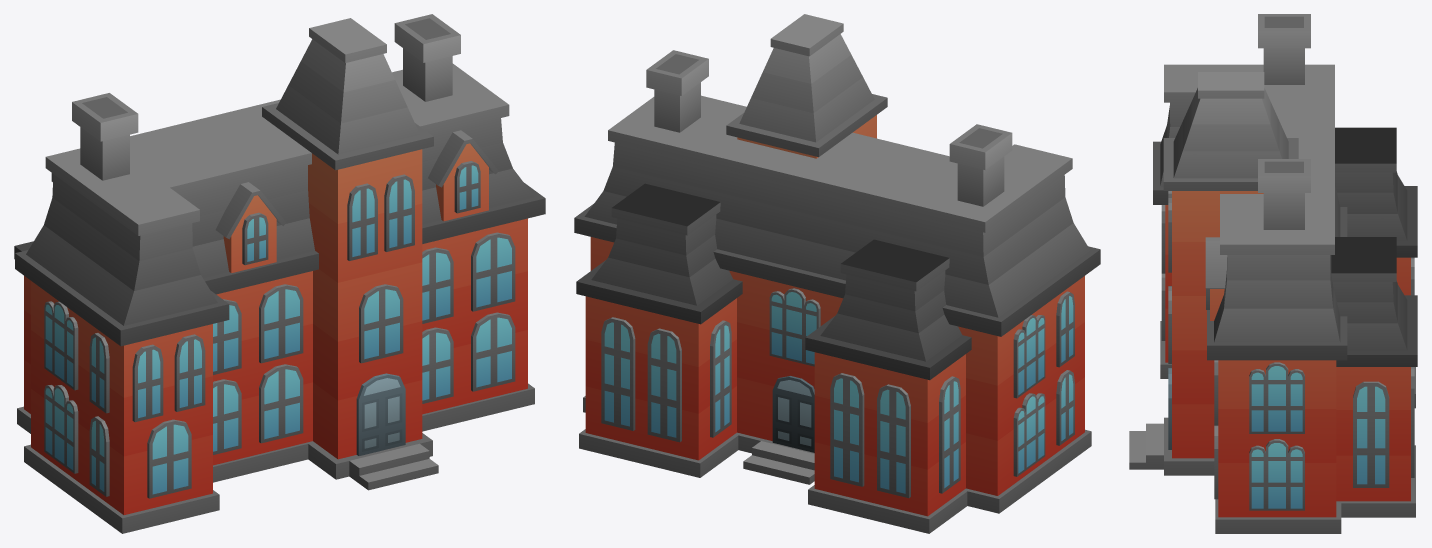
File: gothic house 2.fbx
The picture shows the model from 3 angles, left to right: view 1: azimuth 30°, elevation 25°; view 2: azimuth 150°, elevation 25°; view 3: azimuth 270°, elevation 25°; orthographic projection. The views are drawn at different scales.
Parts seen in each view (by area): view 1: gothic_house_2; view 2: gothic_house_2; view 3: gothic_house_2.
Boxes of the visible parts, x1,y1,x2,y2 form: gothic_house_2: [14, 14, 545, 533]; gothic_house_2: [574, 14, 1100, 533]; gothic_house_2: [1129, 14, 1417, 533].
Bounding box in the file's own units: 1405 × 1197 × 840.
1 material, 1 textured.
